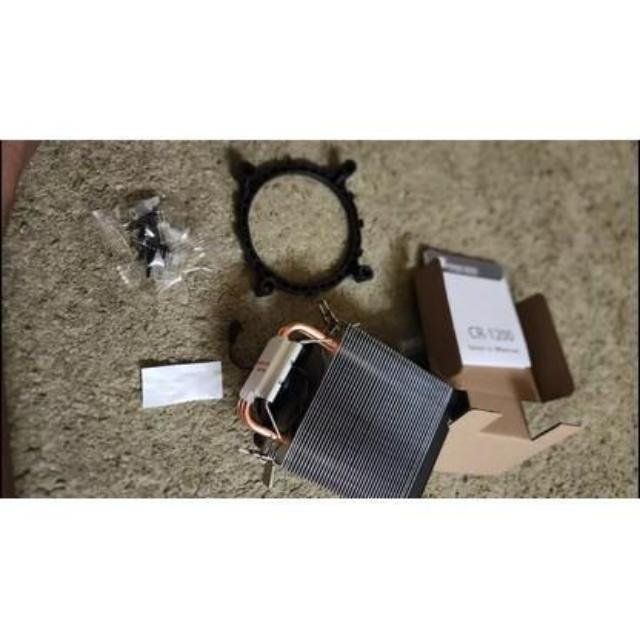CPU_Fan: (236, 314, 461, 516)
